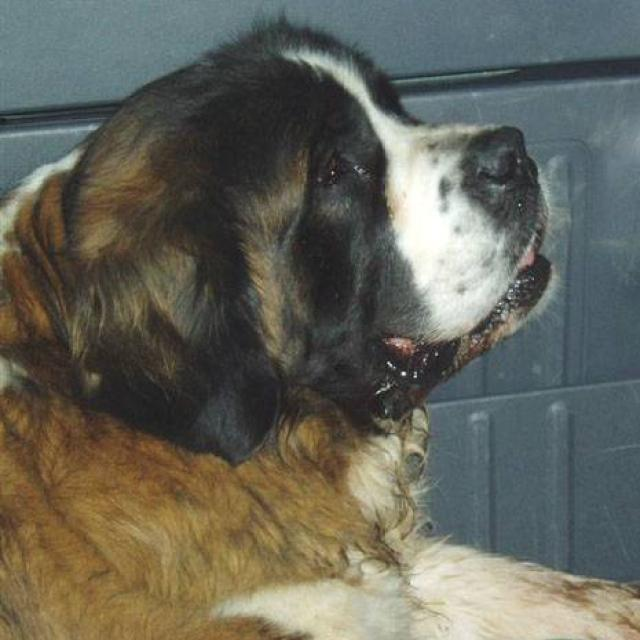dog: (0, 11, 639, 638)
